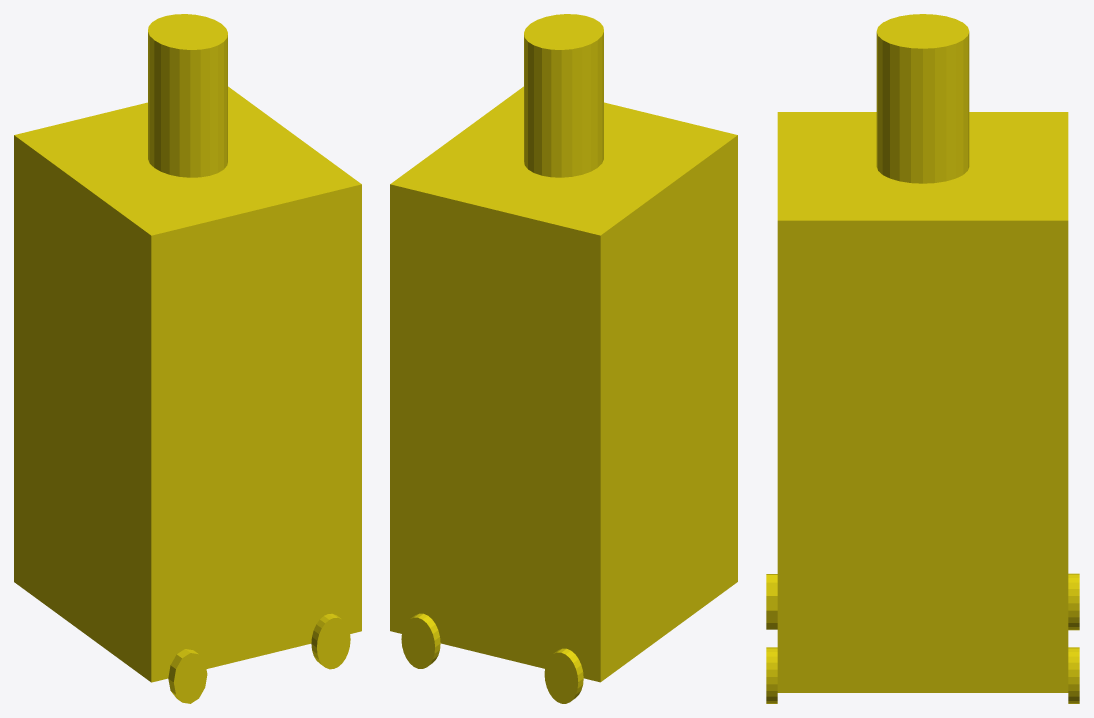
File: pr_jaune.dae
3 views of the same model, side by side, from view 1: azimuth 30°, elevation 25°; view 2: azimuth 150°, elevation 25°; view 3: azimuth 270°, elevation 25° (orthographic). The views are drawn at different scales.
Parts seen in each view (by area): view 1: Group36_001; view 2: Group36_001; view 3: Group36_001.
Boxes of the visible parts, x1,y1,x2,y2 form: Group36_001: (14, 14, 361, 703); Group36_001: (390, 14, 737, 703); Group36_001: (766, 14, 1079, 703).
Size of the model in its own units: 0.9215 by 1.13 by 2.51.
